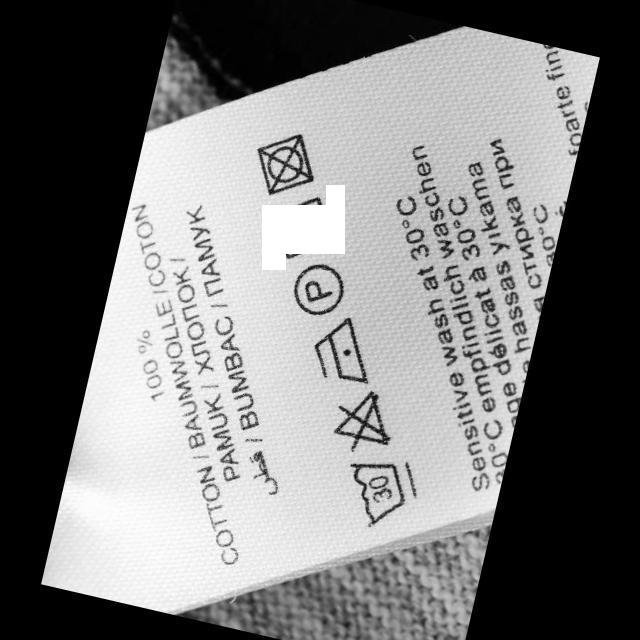30C: (335, 443, 429, 540)
DN_bleach: (324, 380, 403, 461)
DN_tumble_dry: (246, 120, 326, 204)
iron_low: (306, 308, 385, 389)
normal_dry_clean_solvents: (286, 254, 352, 322)
